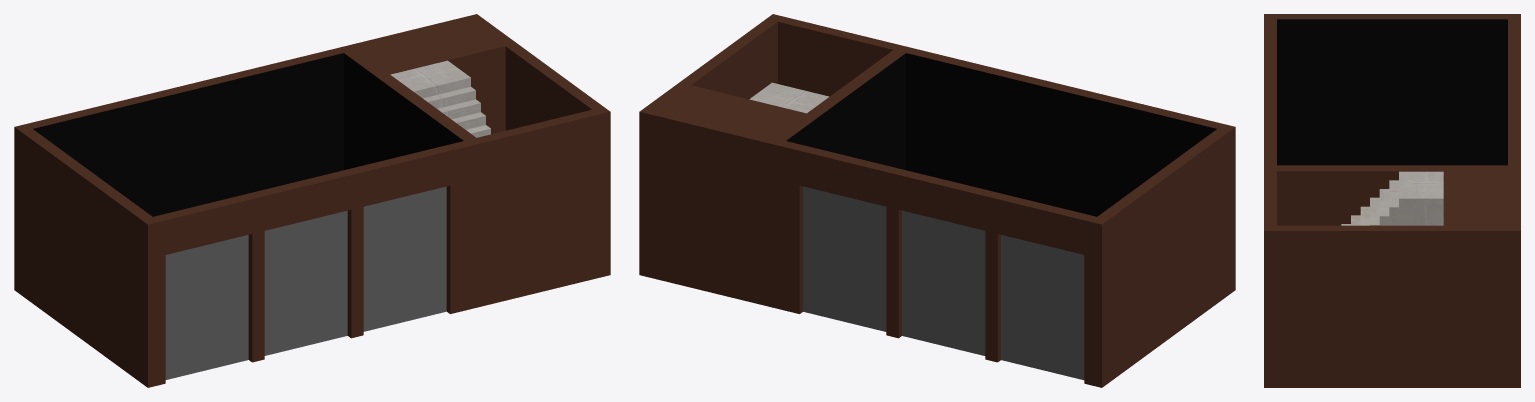
The model's file is ascensores.DAE.
3 renders of one model, left to right at view 1: azimuth 30°, elevation 25°; view 2: azimuth 150°, elevation 25°; view 3: azimuth 270°, elevation 25°, orthographic. The views are drawn at different scales.
Parts seen in each view (by area): view 1: cajaAscensor; view 2: cajaAscensor; view 3: cajaAscensor.
Boxes of the visible parts, x1=… form: cajaAscensor: x1=14, y1=14, x2=610, y2=387; cajaAscensor: x1=639, y1=14, x2=1235, y2=387; cajaAscensor: x1=1264, y1=14, x2=1520, y2=387.
Size of the model in its own units: 800 by 271 by 400.
